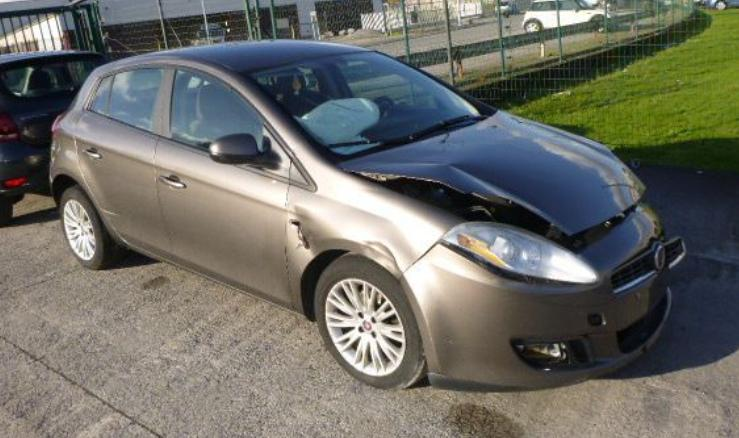Back-door: (76, 64, 167, 256)
Back-wheel: (59, 186, 126, 273)
Back-window: (109, 67, 163, 135), (87, 72, 114, 115)
Fender: (286, 136, 465, 313)
Front-bumper: (396, 205, 670, 392)
Front-door: (156, 65, 294, 307)
Front-wheel: (314, 254, 427, 389)
Front-window: (170, 67, 266, 152), (265, 126, 309, 185)
Grille: (611, 238, 686, 293)
Headlight: (441, 221, 599, 288)
Hood: (338, 109, 646, 235)
Mirror: (211, 133, 266, 165)
Quarter-panel: (50, 102, 101, 216)
Rocker-panel: (122, 240, 309, 322)
Roof: (100, 40, 368, 73)
Tail-light: (52, 113, 63, 133)
Windshield: (242, 50, 498, 165)
